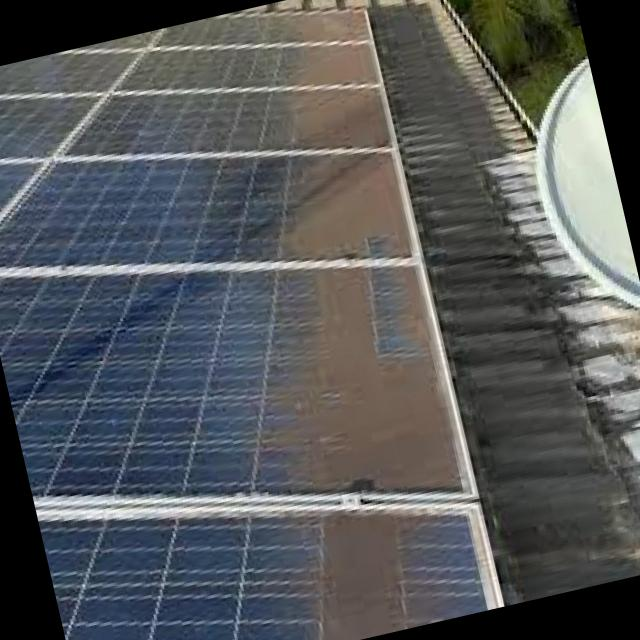faulty: (0, 267, 461, 494), (39, 513, 482, 640), (0, 146, 414, 261), (71, 93, 391, 149), (109, 44, 376, 89), (150, 16, 372, 47)
